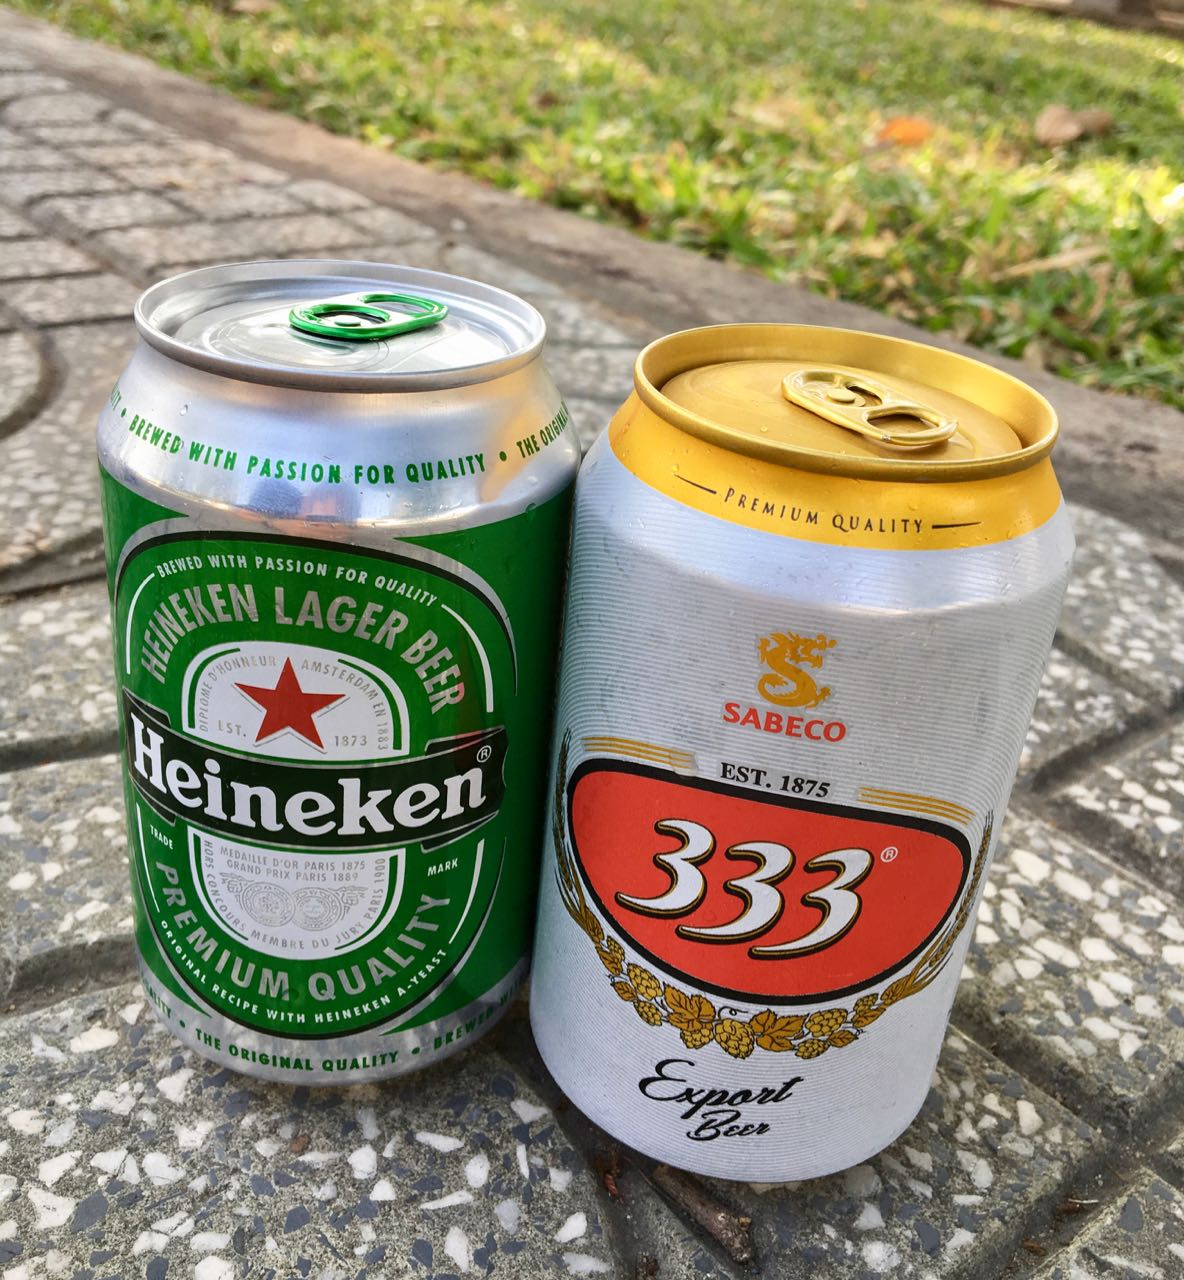333: (622, 791, 871, 974)
heineken: (114, 711, 499, 845)
